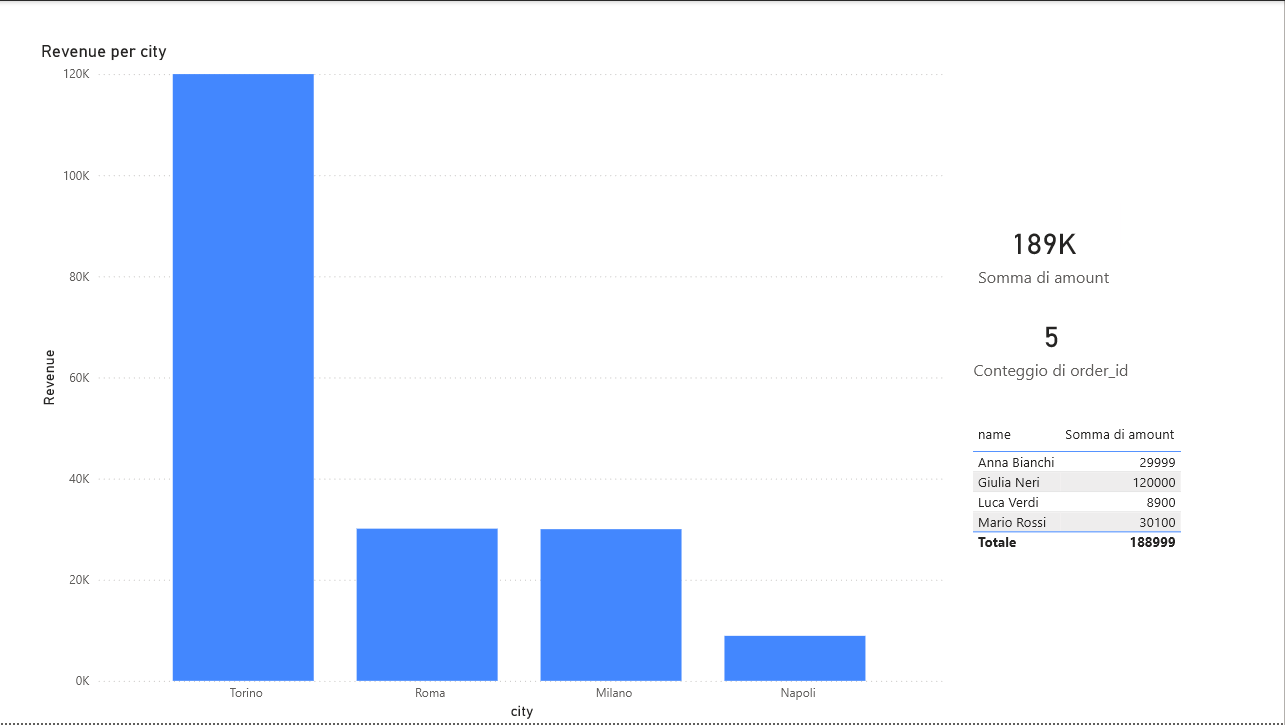

The page's visual inventory and layout, read from the dashboard file:
{"tool":"powerbi","page":{"name":"Sales Overview","canvas":[1280,720],"ordinal":0},"visuals":[{"type":"clusteredColumnChart","fields":{"Y":["Sum(transformed_orders.amount)"],"Category":["source_customers.city"]},"box":[35.6,39.8,911.3,680.9],"z":0},{"type":"tableEx","fields":{"Values":["source_customers.name","Sum(transformed_orders.amount)"]},"box":[963.7,416.9,251.4,176],"z":3},{"type":"card","fields":{"Values":["Sum(transformed_orders.amount)"]},"box":[963.7,201.1,152.9,98.5],"z":5},{"type":"card","fields":{"Values":["CountNonNull(source_orders.order_id)"]},"box":[963.7,299.6,167.6,85.9],"z":6}]}

Visuals, with their boxes in screenshot pixels (x1, y1, x2, y2), scaled from the page's 1280x720 canvas onto the 1285x725 screenshot:
clusteredColumnChart - Sum(transformed_orders.amount) x source_customers.city: (left=36, top=40, right=951, bottom=724)
tableEx - source_customers.name x Sum(transformed_orders.amount): (left=967, top=420, right=1220, bottom=597)
card - Sum(transformed_orders.amount): (left=967, top=202, right=1121, bottom=302)
card - CountNonNull(source_orders.order_id): (left=967, top=302, right=1136, bottom=388)
